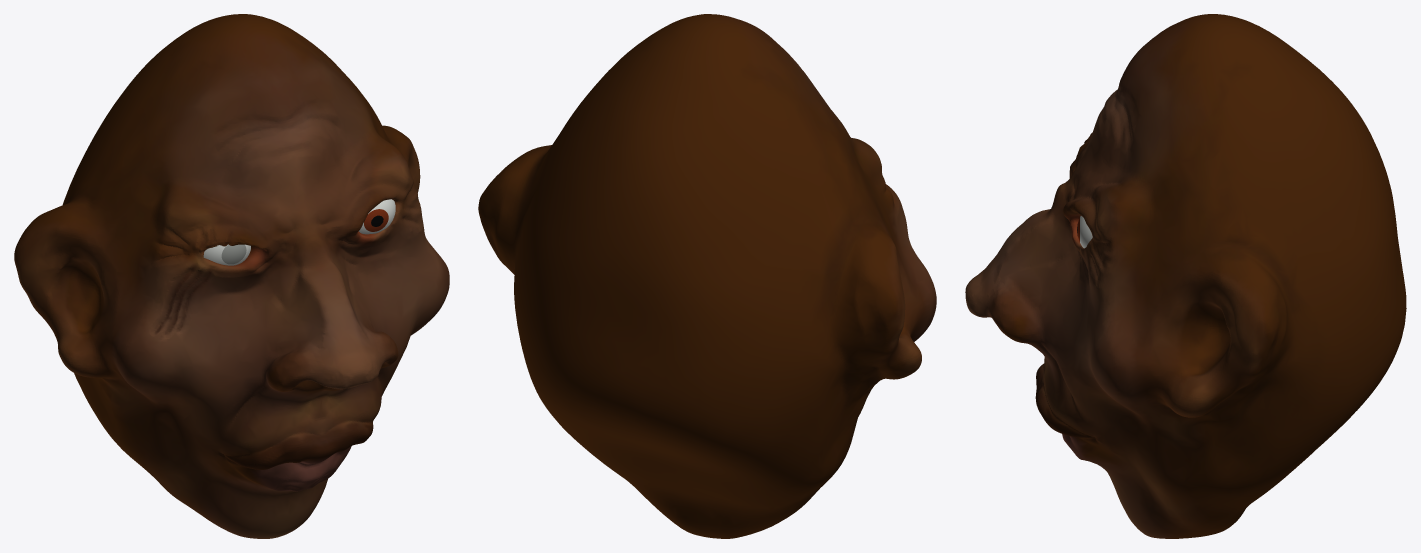
3 views of the same model, side by side, from view 1: azimuth 30°, elevation 25°; view 2: azimuth 150°, elevation 25°; view 3: azimuth 270°, elevation 25° (orthographic). The views are drawn at different scales.
Parts seen in each view (by area): view 1: Left Eye.004; view 2: Left Eye.004; view 3: Left Eye.004.
Part boxes in pixels (x1,y1,x2,y2): Left Eye.004: (14,14,449,538); Left Eye.004: (478,14,936,538); Left Eye.004: (965,14,1406,538).
Bounding box in the file's own units: 2.55 × 3.01 × 2.37.
Materials: 1 (1 with a texture image).
